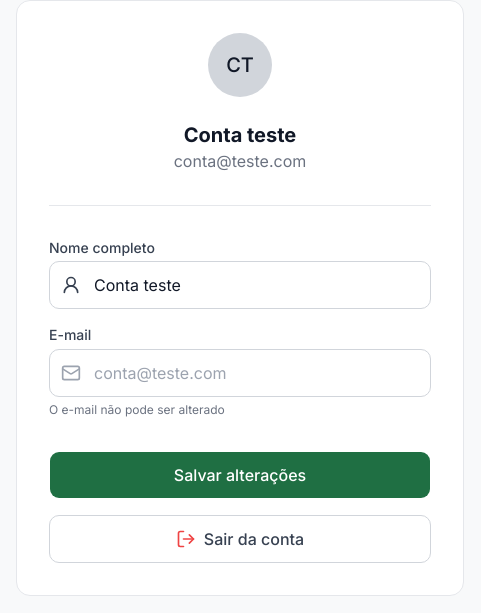
Test: Profile page › updates the name and keeps it in the session
Replace the text in the field labelled "Nome completo" with "Conta Atualizada" at (240, 285), box [49,261,431,309]
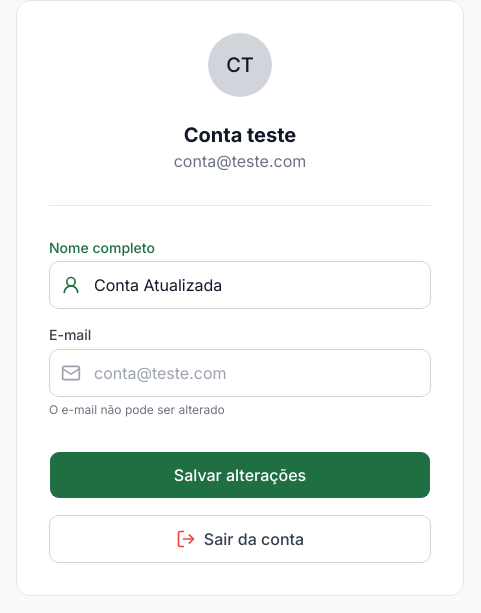
Click the button "Salvar alterações".
click(240, 474)  # box [49,450,431,498]
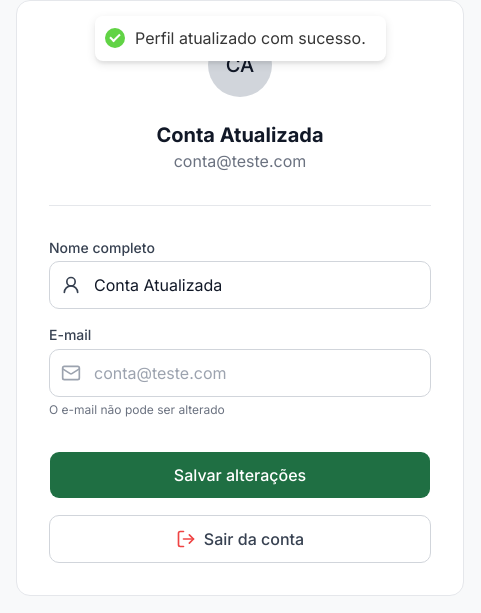
expect the text "Perfil atualizado com sucesso." is shown: met, box [135,28,365,49]
expect the text "Conta Atualizada" is shown: met, box [156,121,324,149]
